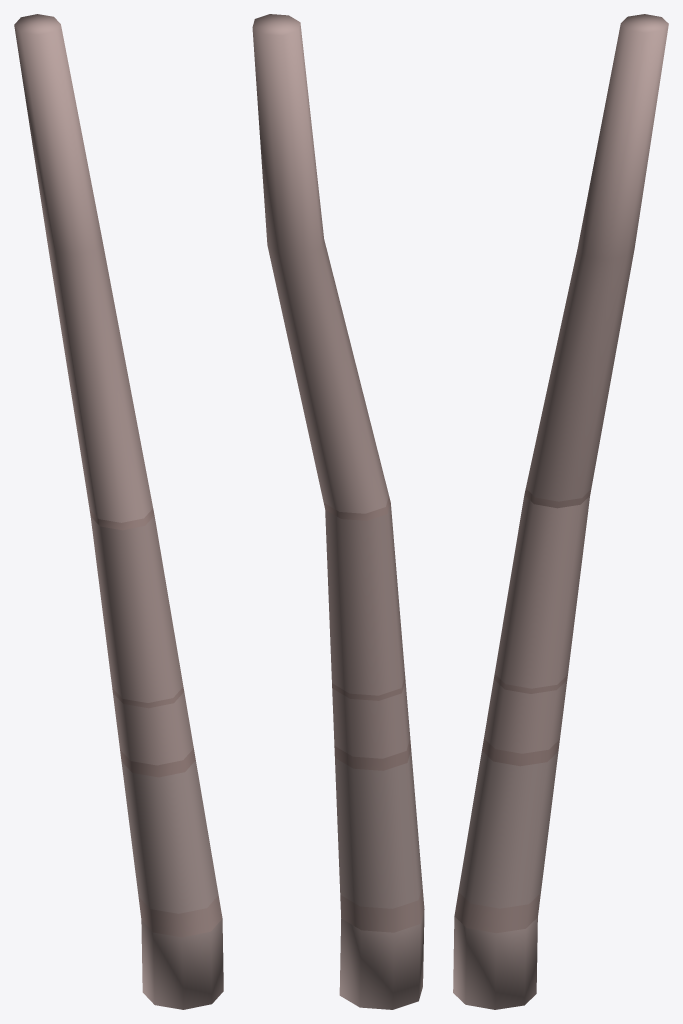
Rendered from mdl_env_1_forest_tree_a_v01.fbx.
The picture shows the model from 3 angles, left to right: view 1: azimuth 90°, elevation 25°; view 2: azimuth 150°, elevation 25°; view 3: azimuth 270°, elevation 25°; orthographic projection. The views are drawn at different scales.
Parts seen in each view (by area): view 1: mdl_env_1_forest_tree_a_v01; view 2: mdl_env_1_forest_tree_a_v01; view 3: mdl_env_1_forest_tree_a_v01.
Boxes of the visible parts, bbox=[...] form: mdl_env_1_forest_tree_a_v01: bbox=[14, 14, 223, 1009]; mdl_env_1_forest_tree_a_v01: bbox=[252, 14, 424, 1009]; mdl_env_1_forest_tree_a_v01: bbox=[453, 14, 668, 1009].
Size of the model in its own units: 1.34 by 13.98 by 2.78.
